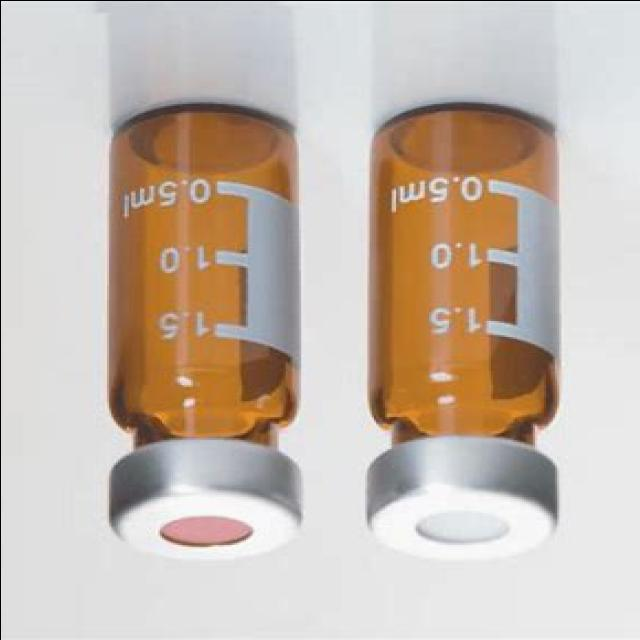vial: (366, 489, 550, 560), (94, 494, 294, 552)
